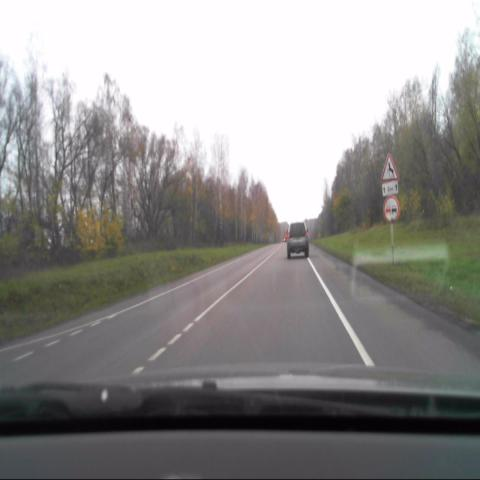1_27: (381, 153, 397, 181)
